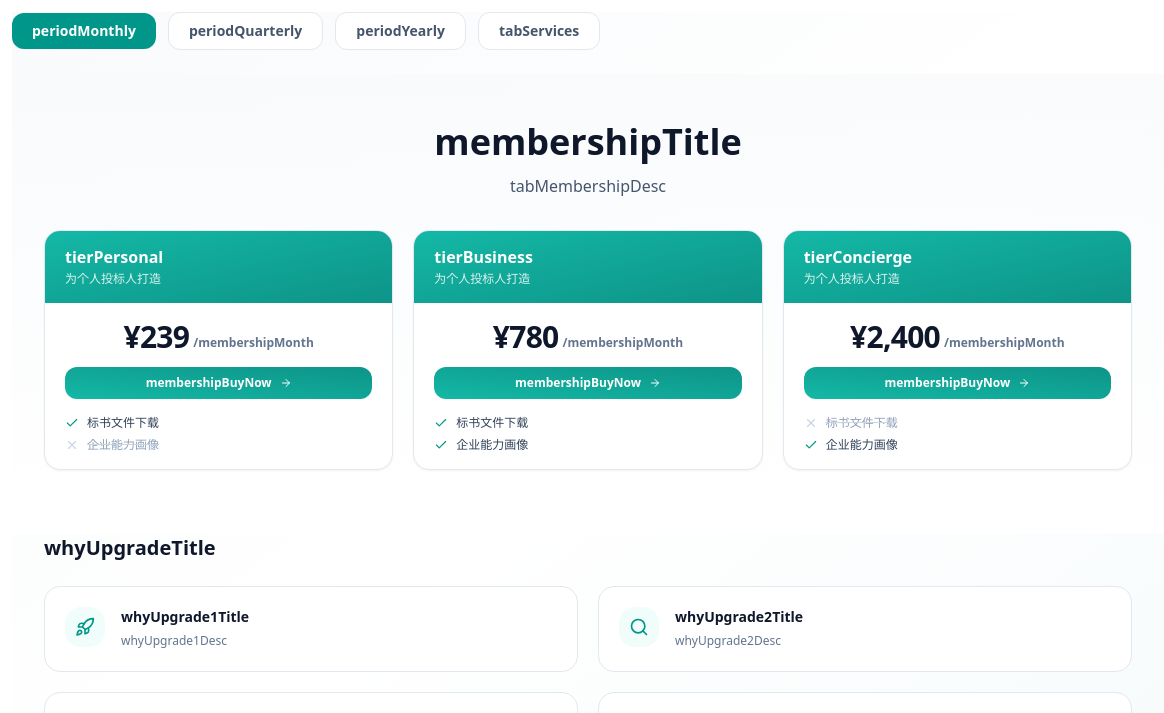
Test: MembershipPage 定价区（周期 Tab × 三档卡） › 切到季度 Tab：三张卡换成季付行
Click the tab with test id "period-tab": (246, 31) left=168, top=12, right=323, bottom=50
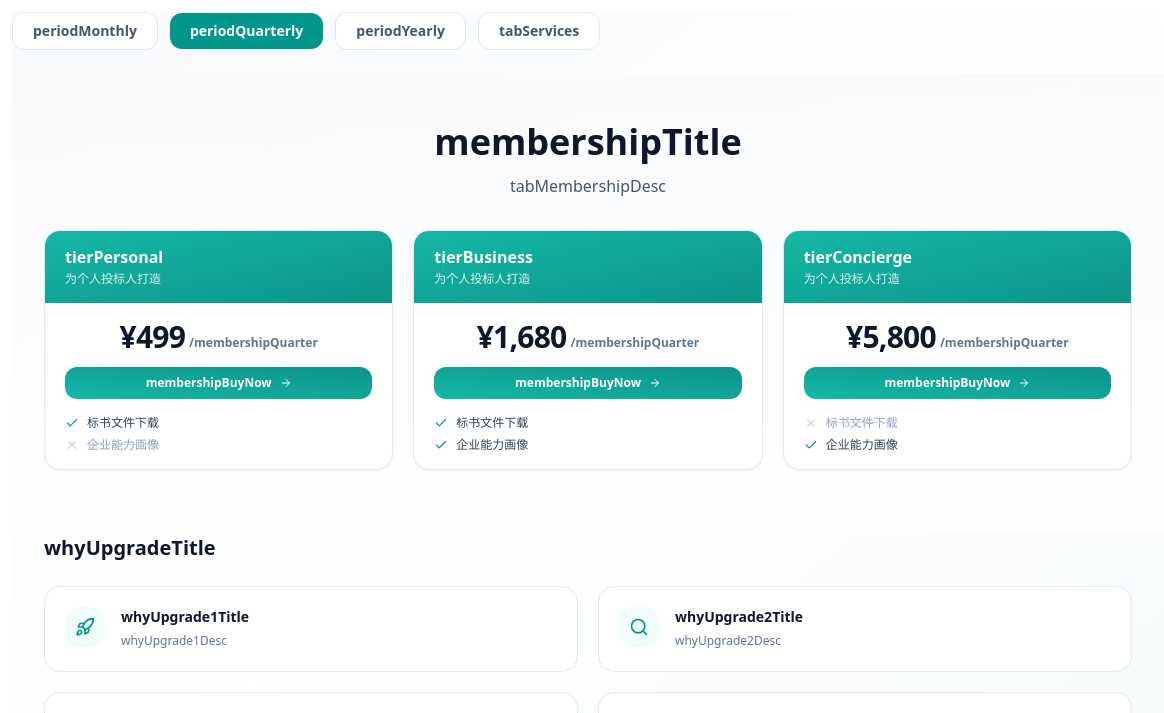
Expected: the text "¥1,680" is shown, left=477, top=319, right=567, bottom=355
